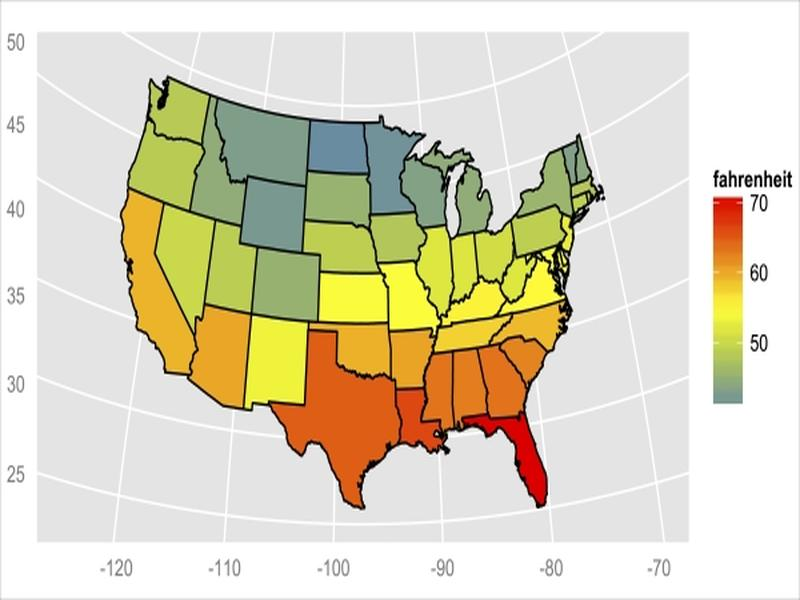legend: (709, 165, 795, 408)
